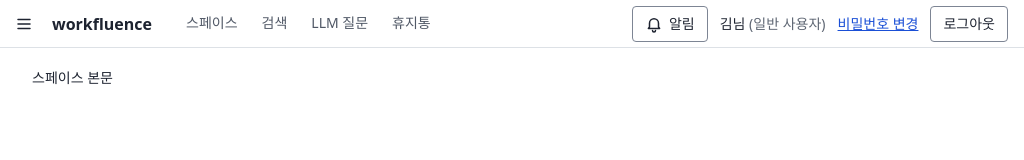
AppLayout — 왼쪽 칸 접기 (J.3.3·J.3.6, FR-1853 · 병합 전 검토 3) › **화면이 왼쪽 칸을 차지하면 기본 문맥(바로가기)이 사라지고 그 내용이 왼쪽 칸에 간다** — 떠나면 돌아온다
Expected: the text "스페이스 본문" is shown, [32, 68, 113, 87]
Click the link "검색".
click(274, 22)  # box [262, 12, 287, 32]
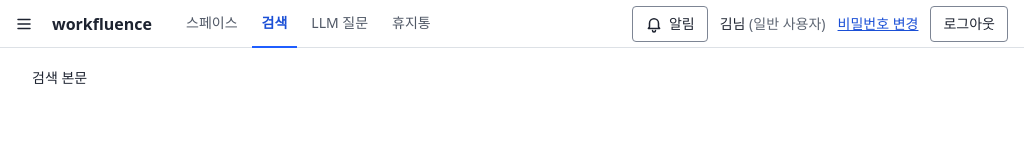
Expected: the text "검색 본문" is shown, [32, 68, 87, 87]
